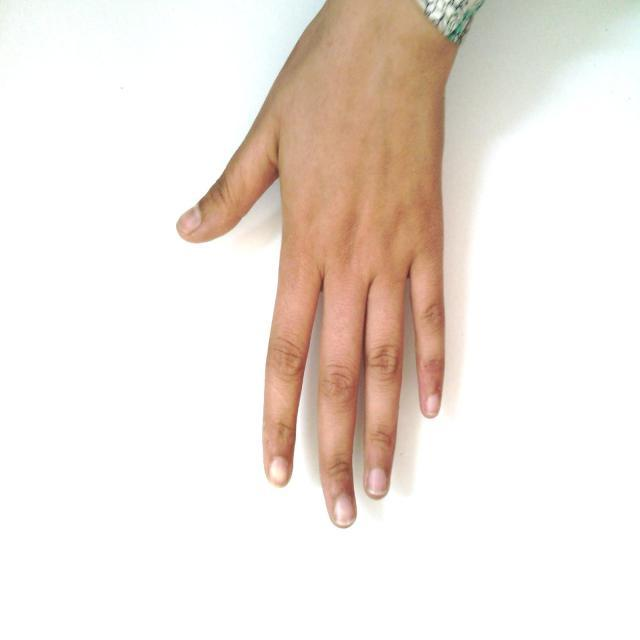Fingernail: (335, 495, 354, 525), (367, 469, 387, 495), (179, 208, 199, 234), (270, 458, 289, 484), (427, 394, 439, 415)
